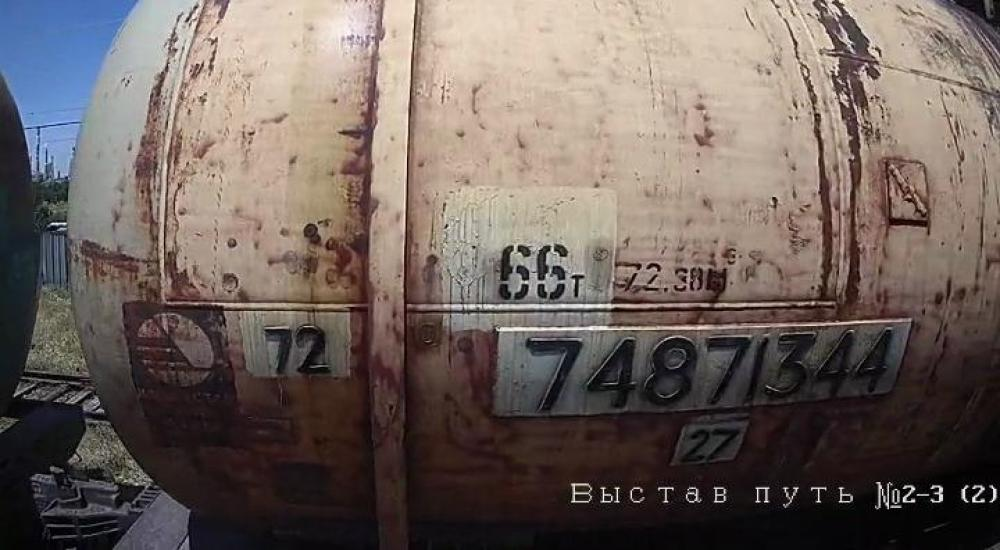Wagon-number: (510, 328, 900, 418)
